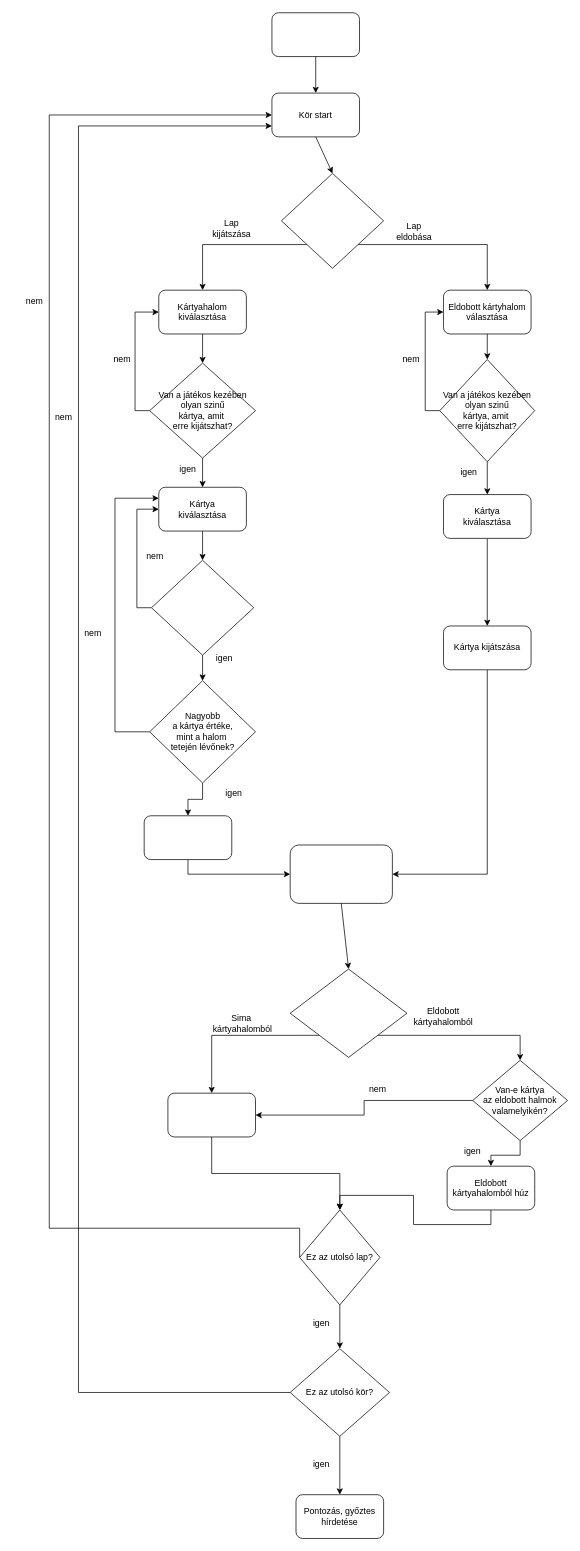
Image size: 580x1551. Some labels were removed from this diagram. Here are the shapes that lost their labels. From the top down, the centre of each, then its label:
At pixel 315 34: "Játék start".
At pixel 332 220: "Mit csinál a játékos".
At pixel 202 607: "Kártya színe egyezik a halom színével?".
At pixel 187 837: "Kártya kijátszása a halom tetejére".
At pixel 340 873: "Kártya húzás".
At pixel 348 1012: "Melyik halomból akar húzni a játékos?".
At pixel 211 1114: "Sima halomból húz".
